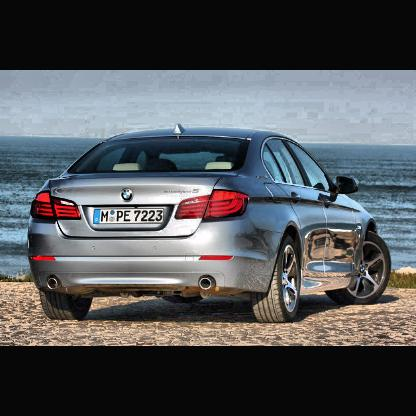BMW ActiveHybrid 5 Sedan 2012: (25, 125, 393, 322)
